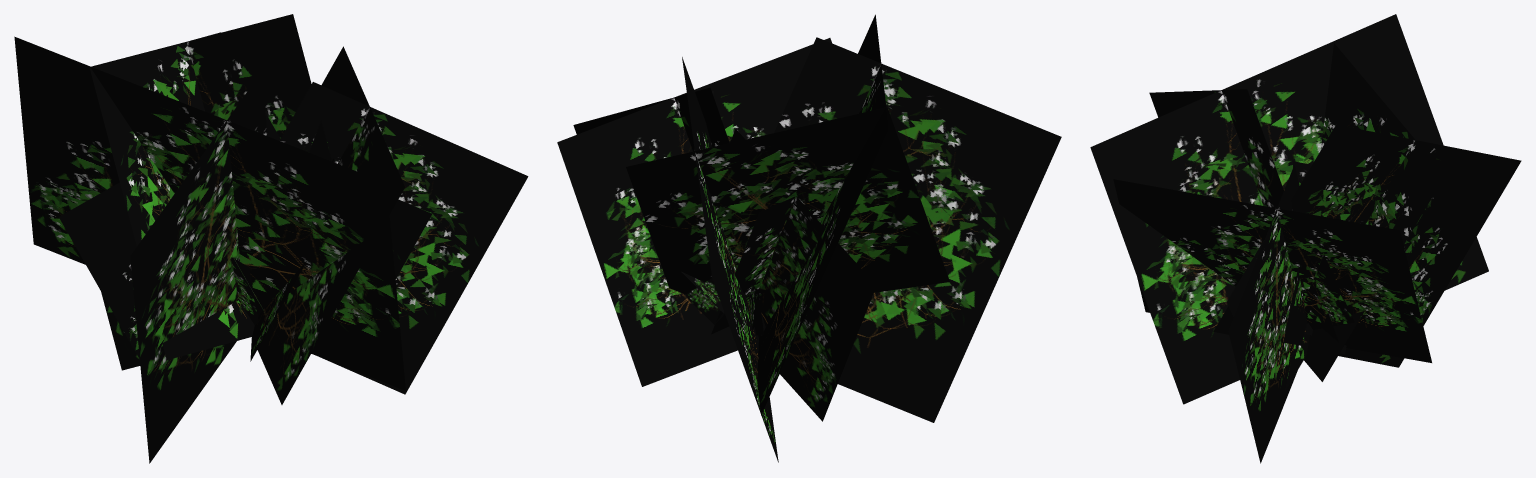
Rendered from fothergilla.glb.
3 renders of one model, left to right at view 1: azimuth 30°, elevation 25°; view 2: azimuth 150°, elevation 25°; view 3: azimuth 270°, elevation 25°, orthographic. The views are drawn at different scales.
Parts seen in each view (by area): view 1: Box01; view 2: Box01; view 3: Box01.
Part boxes in pixels (x1,y1,x2,y2): Box01: (14,14,528,463); Box01: (557,14,1061,462); Box01: (1090,14,1521,463).
Bounding box in the file's own units: 99.12 × 80.08 × 97.68.
Materials: 1 (1 with a texture image).
